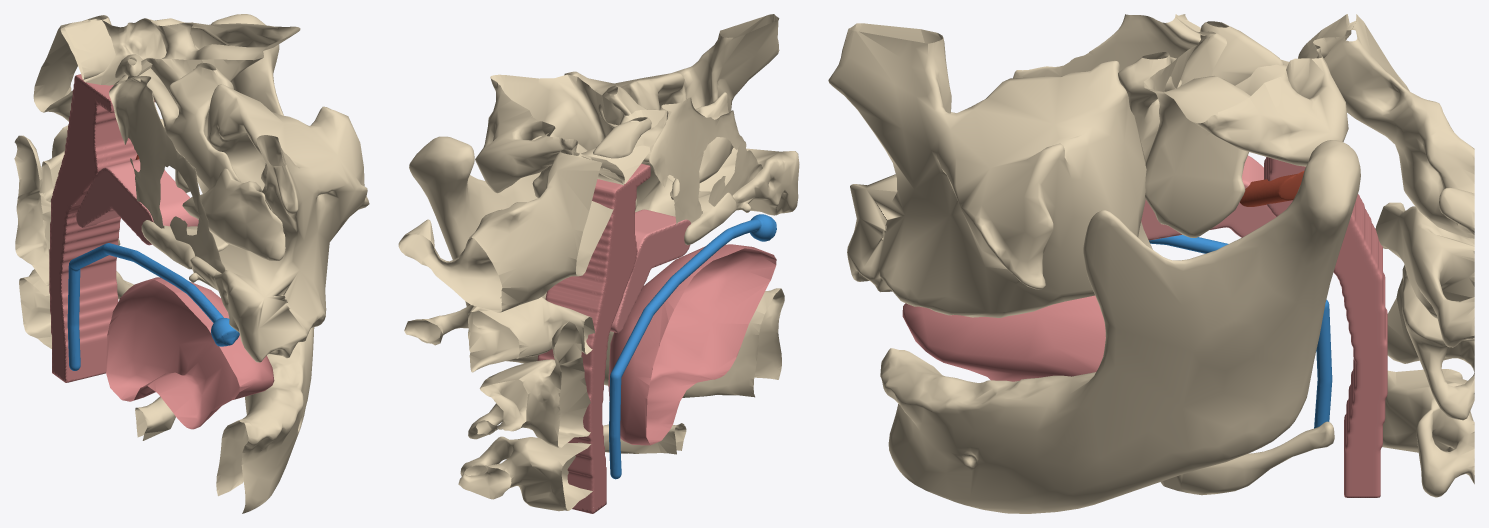
Rendered from furlow-cut.glb.
3 renders of one model, left to right at view 1: azimuth 30°, elevation 25°; view 2: azimuth 150°, elevation 25°; view 3: azimuth 270°, elevation 25°, orthographic. The views are drawn at different scales.
Parts seen in each view (by area): view 1: bone (×11), tongue, mucosa, soft, air; view 2: bone (×11), tongue, mucosa, air, soft; view 3: bone (×10), tongue, mucosa, air, soft, muscle.
Boxes of the visible parts, x1,y1,x2,y2 form: bone (×11): [14, 14, 369, 513]; tongue: [106, 277, 274, 429]; mucosa: [49, 74, 155, 382]; soft: [76, 159, 198, 245]; air: [67, 243, 239, 370]; bone (×11): [398, 14, 799, 511]; tongue: [608, 244, 776, 445]; mucosa: [537, 163, 650, 513]; air: [609, 214, 776, 479]; soft: [610, 209, 691, 332]; bone (×10): [828, 14, 1474, 513]; tongue: [902, 295, 1105, 381]; mucosa: [1264, 157, 1387, 497]; air: [1149, 235, 1332, 428]; soft: [1141, 155, 1275, 240]; muscle: [1240, 171, 1304, 206].
Size of the model in its own units: 55.62 by 87 by 113.
